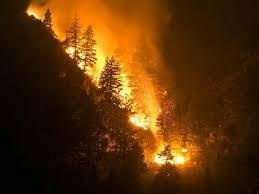fire: (48, 20, 172, 154)
